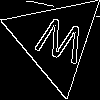W: (30, 15, 89, 74)
